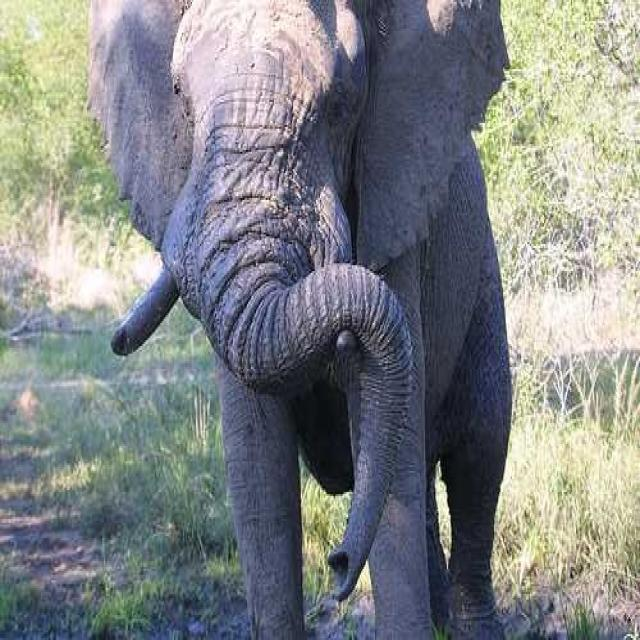Elephant: (84, 0, 514, 638)
